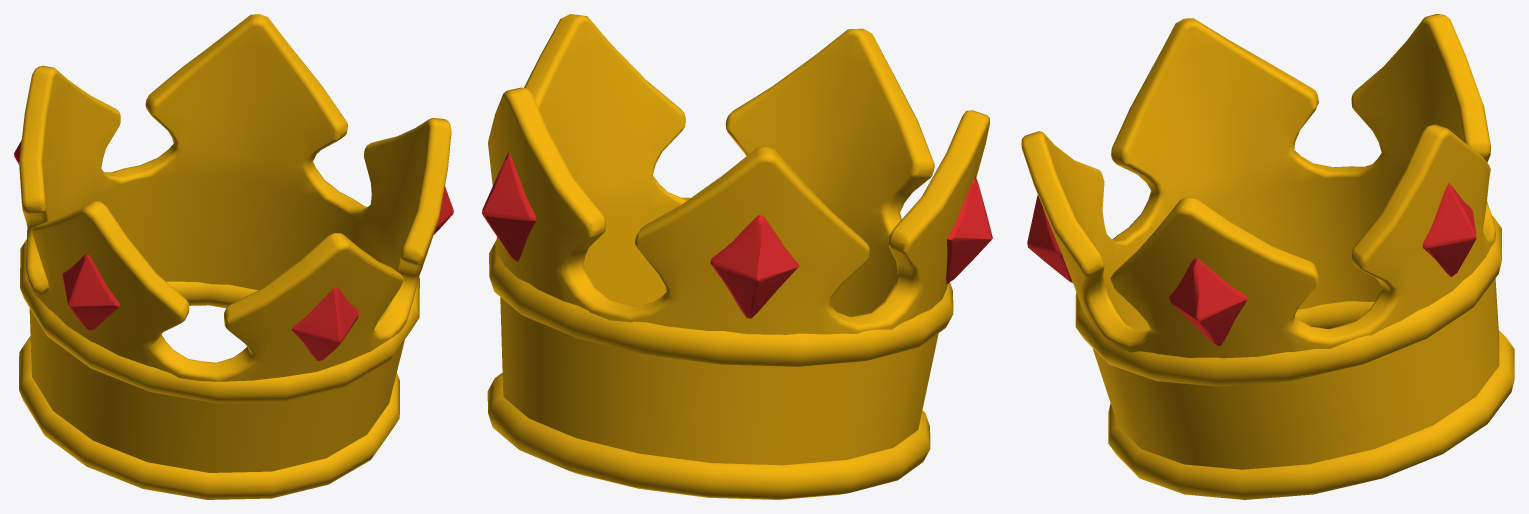
3 views of the same model, side by side, from view 1: azimuth 30°, elevation 25°; view 2: azimuth 150°, elevation 25°; view 3: azimuth 270°, elevation 25° (orthographic). The views are drawn at different scales.
Parts seen in each view (by area): view 1: model_1.074; view 2: model_1.074; view 3: model_1.074.
Boxes of the visible parts, x1,y1,x2,y2 form: model_1.074: [14, 14, 453, 499]; model_1.074: [482, 14, 992, 499]; model_1.074: [1021, 14, 1514, 499].
Size of the model in its own units: 4.76 by 4.06 by 4.89.
